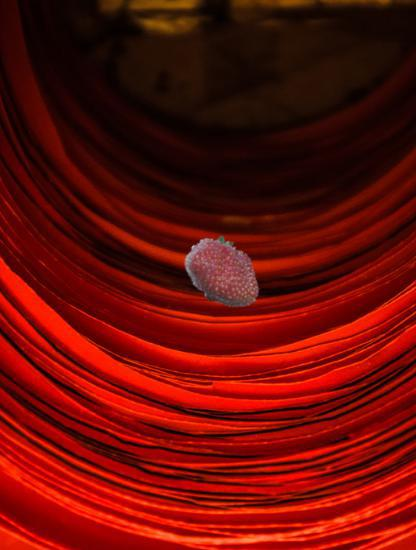Strawberry: (182, 232, 266, 316)
